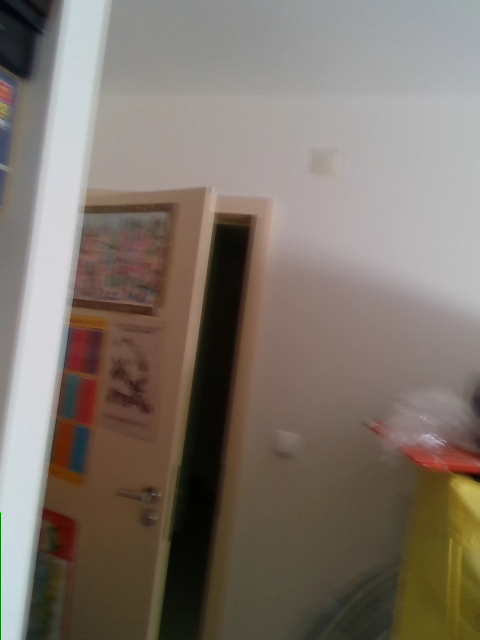semi: (23, 186, 274, 639)
